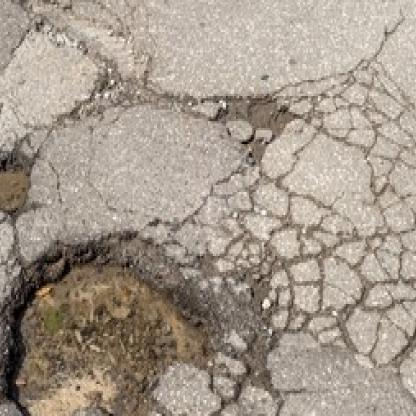pothole: (0, 233, 234, 416), (213, 92, 297, 163), (0, 153, 33, 226)
